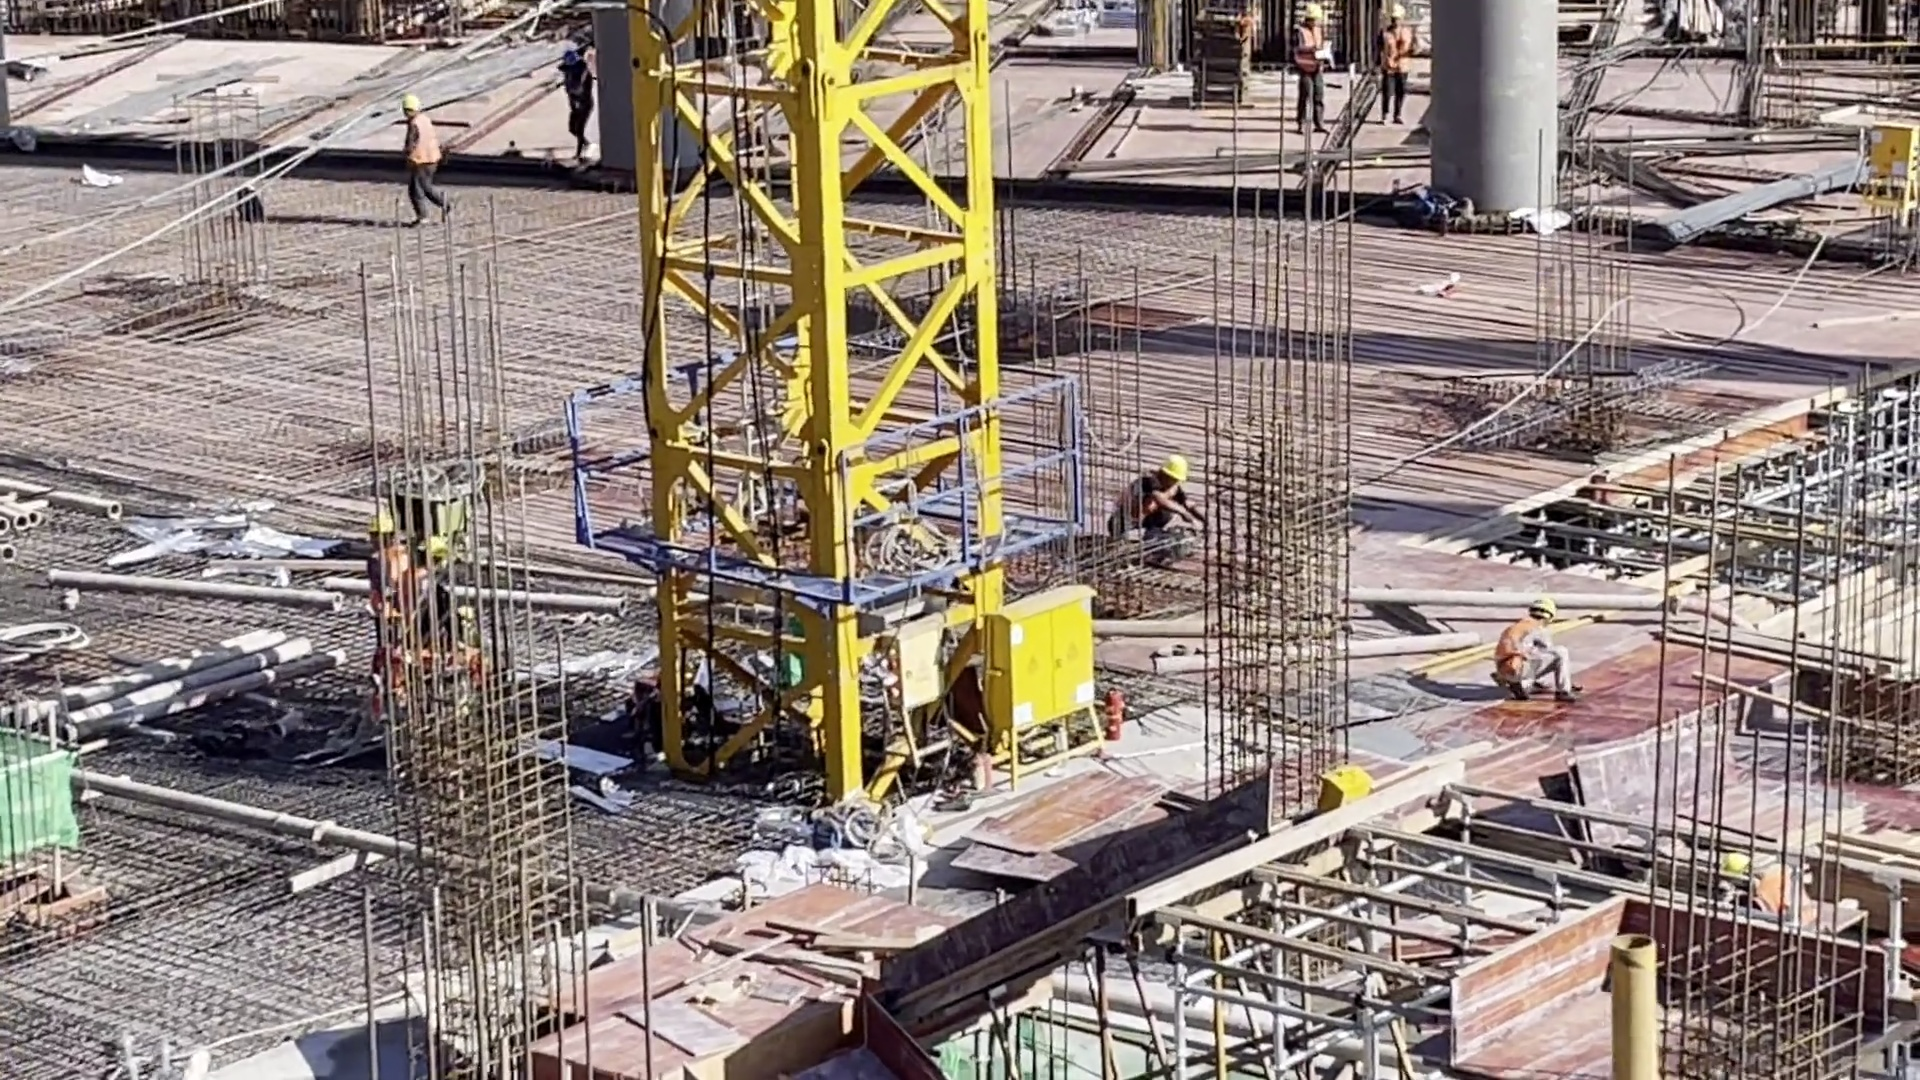ebox: (988, 587, 1109, 774), (886, 615, 952, 772), (1860, 117, 1915, 256), (1310, 762, 1374, 810)
helmet: (1159, 453, 1190, 485), (1720, 851, 1750, 877), (1526, 597, 1558, 621), (368, 513, 396, 530), (400, 95, 422, 113), (1386, 3, 1408, 20), (1303, 1, 1322, 20)
person: (1106, 451, 1204, 550), (1485, 594, 1574, 695), (398, 92, 453, 225), (1718, 850, 1810, 924), (363, 512, 406, 661), (1287, 2, 1329, 136), (1376, 2, 1411, 133), (558, 46, 595, 163)
rebar: (1607, 158, 1861, 268)
vest: (1113, 472, 1177, 536), (1496, 620, 1547, 690), (1746, 871, 1813, 924), (406, 113, 440, 172), (1295, 23, 1325, 75), (1384, 26, 1411, 75)
